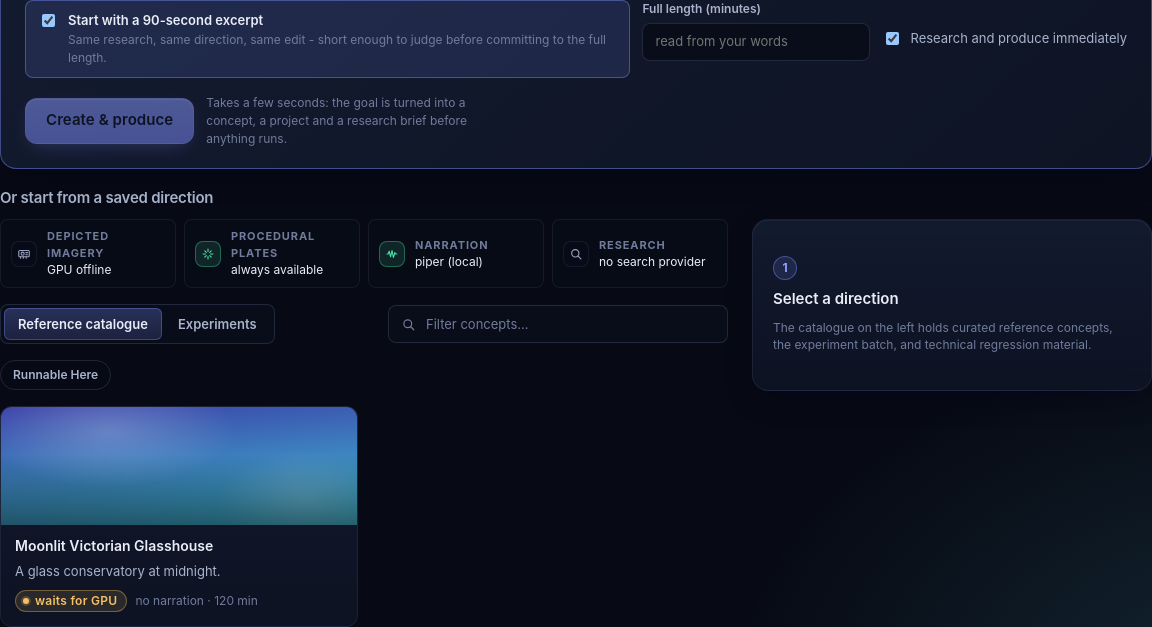
NewProjectPage › leads with the reference catalogue and lets the operator switch to experiments
This screenshot has width=1152, height=627.
(page scrolled)
expect the text "Moonlit Victorian Glasshouse" is shown: met, box [15,537,213,554]
expect the text "waits for GPU" is shown: met, box [15,590,127,612]
Click the tab "Experiments": (217, 324) [164,308,271,340]
(page scrolled)
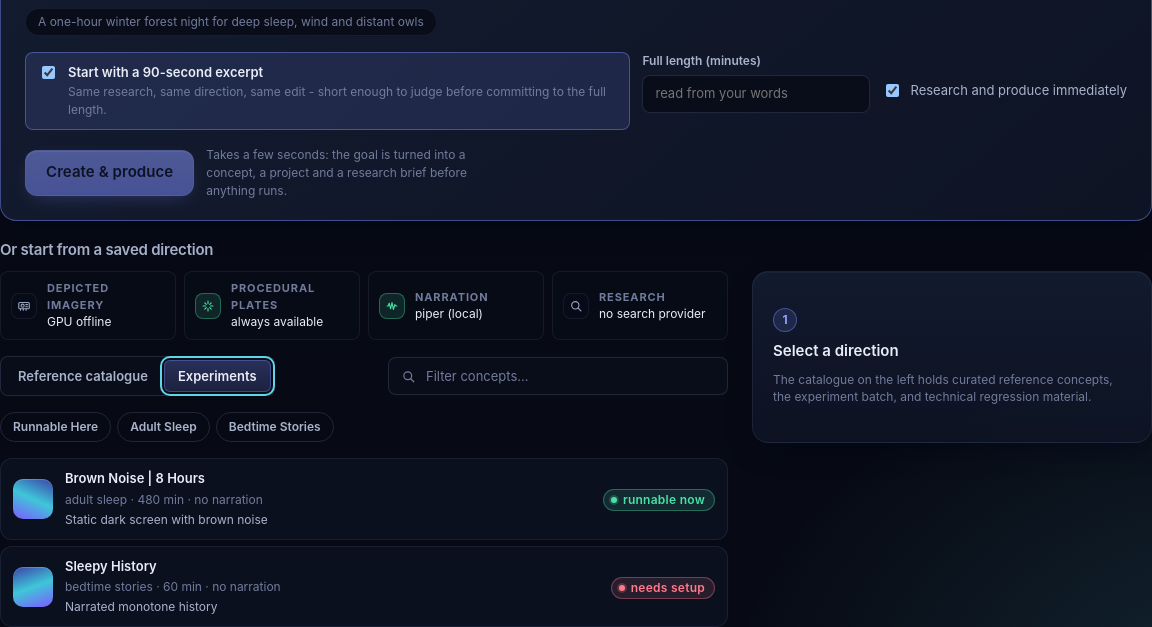
expect the text "Brown Noise | 8 Hours" is shown: met, box [65,470,205,486]
